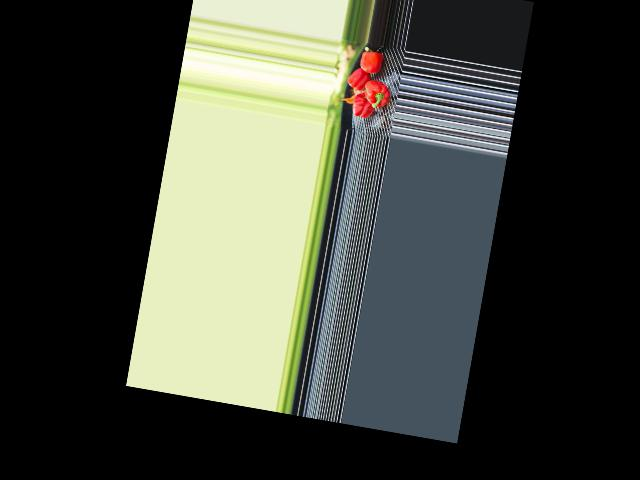bell_pepper: (349, 91, 375, 119)
